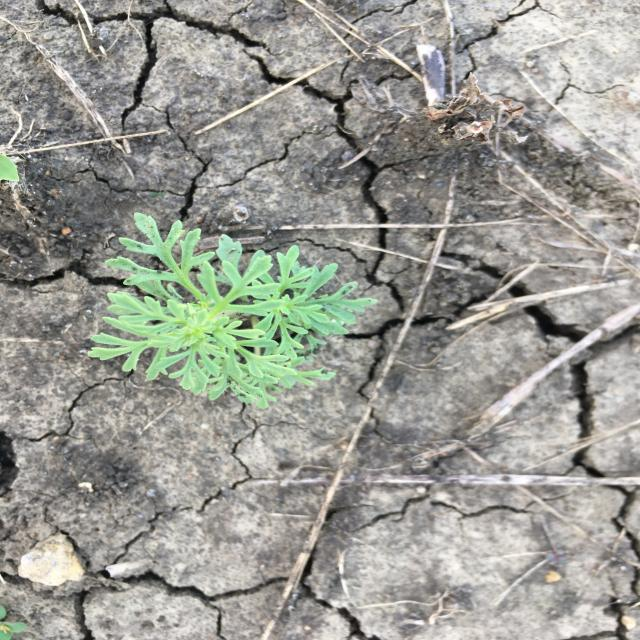Ragweed: (82, 211, 382, 412)
